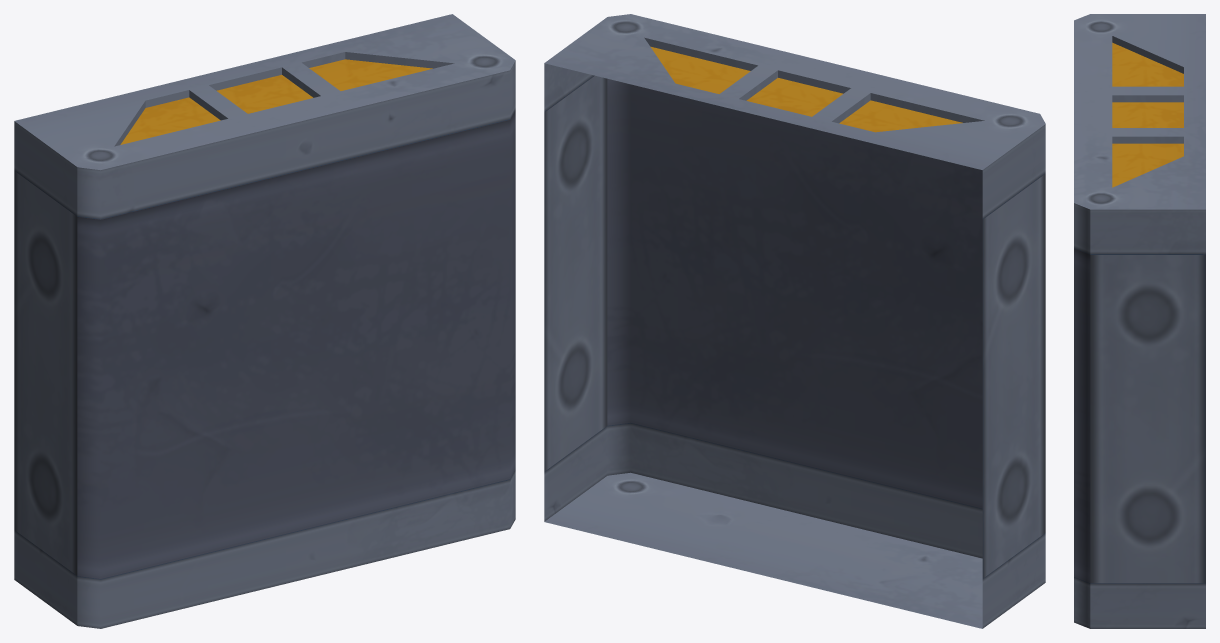
File: obj_spaceship_wall10.fbx
3 renders of one model, left to right at view 1: azimuth 30°, elevation 25°; view 2: azimuth 150°, elevation 25°; view 3: azimuth 270°, elevation 25°, orthographic. The views are drawn at different scales.
Parts seen in each view (by area): view 1: polySurface204; view 2: polySurface204; view 3: polySurface204.
Boxes of the visible parts, x1=… form: polySurface204: x1=14, y1=14, x2=515, y2=628; polySurface204: x1=544, y1=14, x2=1045, y2=628; polySurface204: x1=1074, y1=14, x2=1205, y2=628.
Bounding box in the file's own units: 4 × 4 × 1.14.
